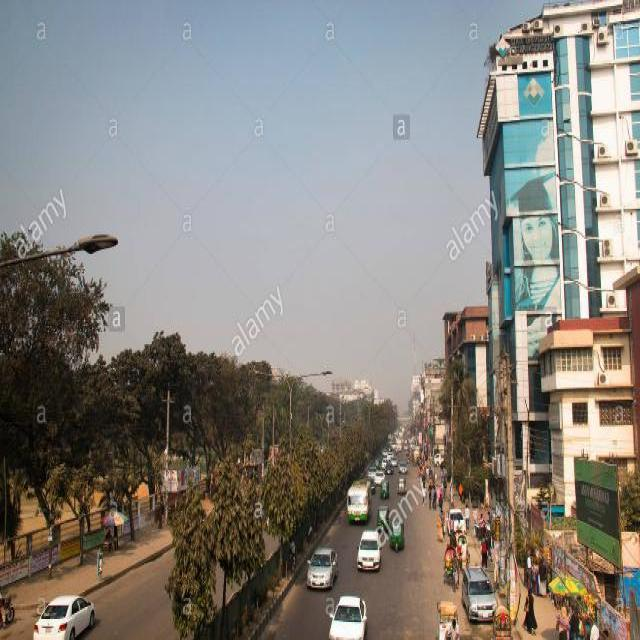bus: (346, 474, 372, 519), (395, 434, 401, 448), (412, 444, 418, 456)
car: (32, 590, 94, 636), (460, 563, 498, 618), (326, 590, 366, 636), (304, 541, 338, 586), (355, 525, 381, 567), (446, 505, 466, 533), (374, 469, 384, 482), (366, 474, 374, 489), (398, 458, 406, 470), (380, 455, 388, 466), (384, 460, 392, 470), (389, 453, 396, 462), (386, 450, 392, 456), (403, 442, 407, 446)
minivan: (432, 450, 444, 462)
motorbike: (0, 583, 15, 626)
rickshaw: (442, 540, 460, 588), (492, 602, 512, 636), (455, 531, 469, 567), (452, 526, 462, 536), (418, 464, 424, 475), (419, 458, 425, 463)
suv: (366, 463, 376, 473)
three wheelers -CNG-: (388, 519, 404, 549), (377, 502, 388, 527), (378, 478, 389, 494), (396, 475, 406, 491), (373, 456, 379, 465), (380, 445, 386, 452)
